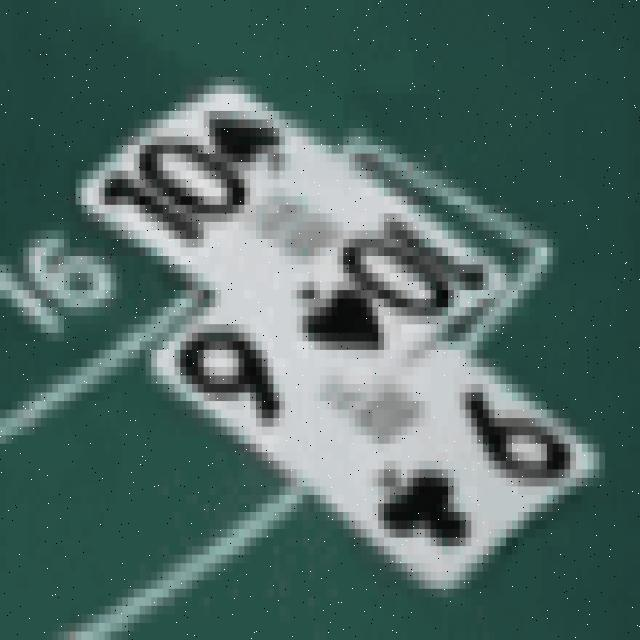Card-10: (75, 74, 509, 386)
Card-9: (153, 295, 604, 593)
